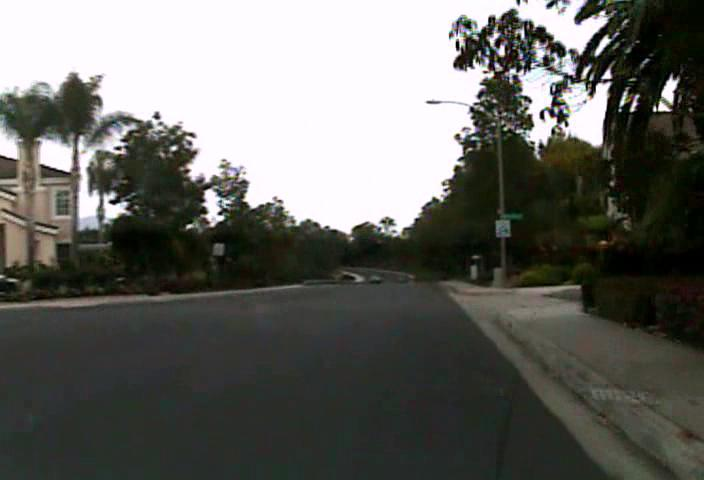speedLimitUrdbl: (494, 218, 511, 238)
